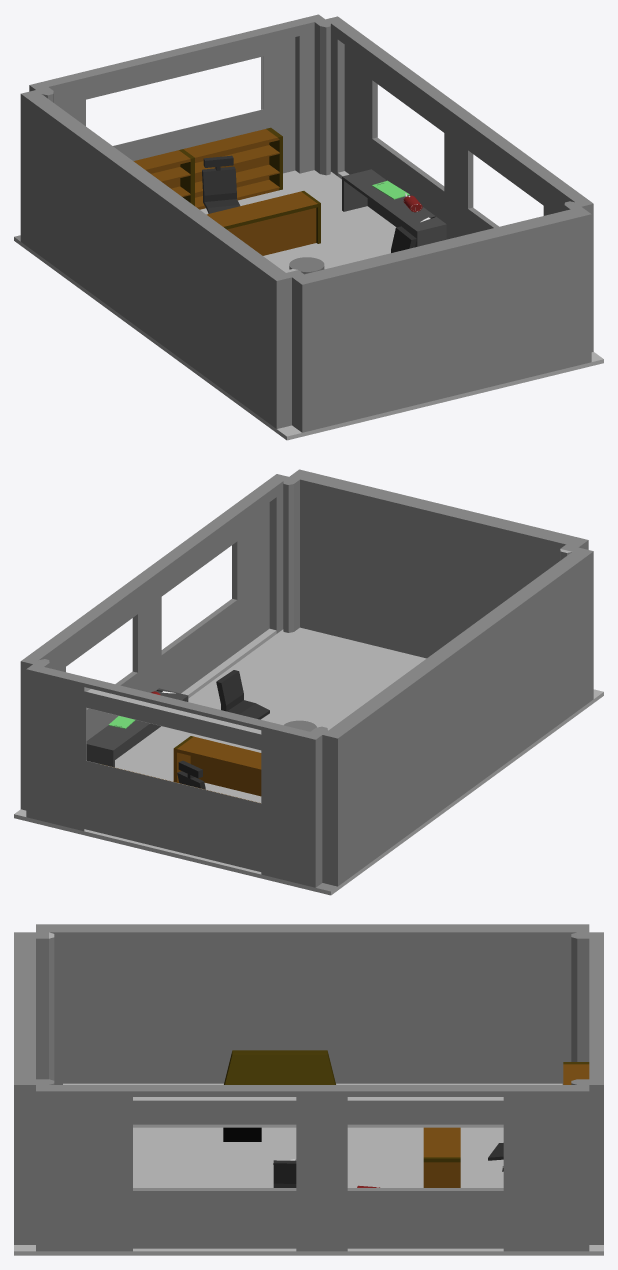
File: PanciNew.glb
The picture shows the model from 3 angles, top to bottom: view 1: azimuth 30°, elevation 25°; view 2: azimuth 150°, elevation 25°; view 3: azimuth 270°, elevation 25°; orthographic projection. The views are drawn at different scales.
Visible parts, largest first — view 1: Cube, Cube.003, Cube.002, Cube.006, Cube.001; view 2: Cube, Cube.002, Cube.006, Cube.004, Cube.001; view 3: Cube, Cube.005, Cube.002, Cube.004, Cube.003.
Part boxes in pixels (x1,y1,x2,y2): Cube: [14, 14, 603, 440]; Cube.003: [133, 127, 282, 209]; Cube.002: [206, 191, 320, 255]; Cube.006: [342, 169, 446, 247]; Cube.001: [202, 155, 240, 213]; Cube: [14, 469, 603, 895]; Cube.002: [173, 736, 261, 796]; Cube.006: [86, 688, 188, 767]; Cube.004: [216, 670, 269, 719]; Cube.001: [177, 760, 205, 789]; Cube: [14, 924, 603, 1255]; Cube.005: [223, 1050, 335, 1141]; Cube.002: [423, 1127, 460, 1187]; Cube.004: [273, 1160, 296, 1187]; Cube.003: [563, 1062, 589, 1084].
Size of the model in its own units: 6.07 by 3.03 by 9.05.
